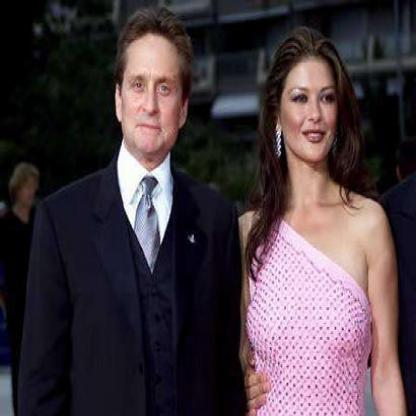face: (121, 24, 187, 157), (280, 38, 342, 165), (22, 168, 40, 208)
